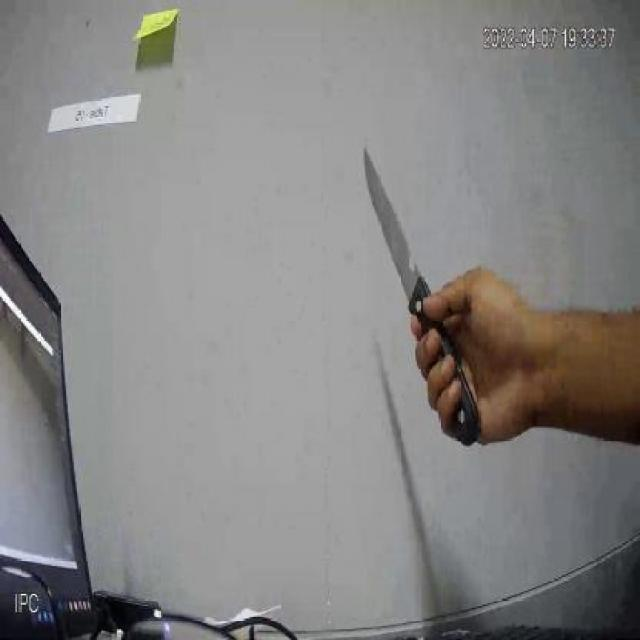-: (357, 139, 485, 442)
